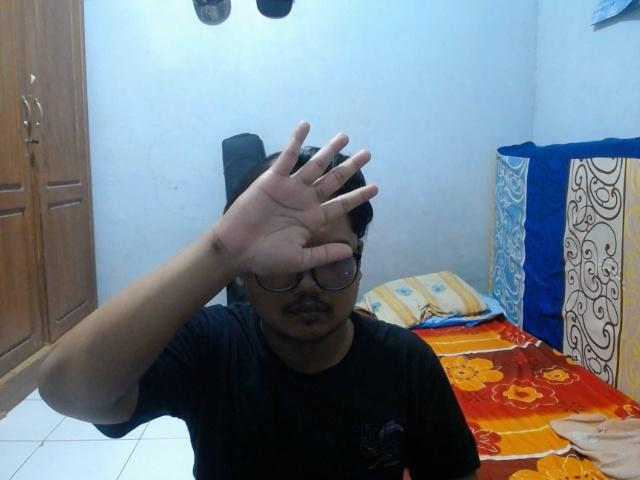Release: (210, 112, 384, 282)
